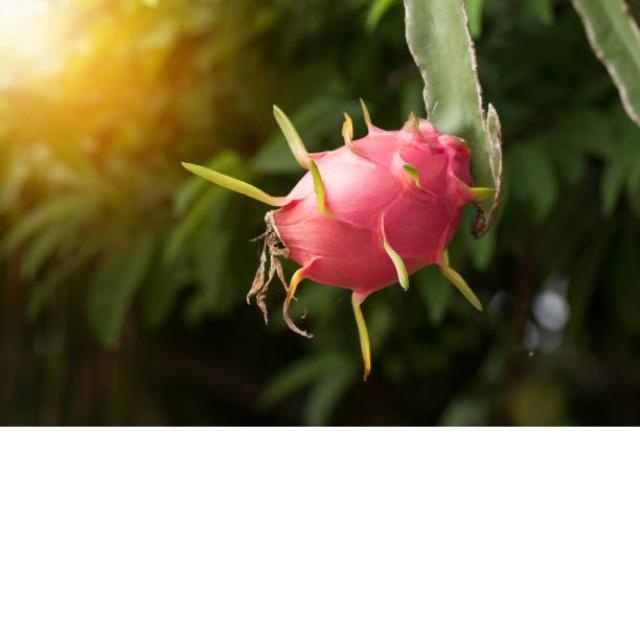thanh_long: (178, 104, 492, 376)
